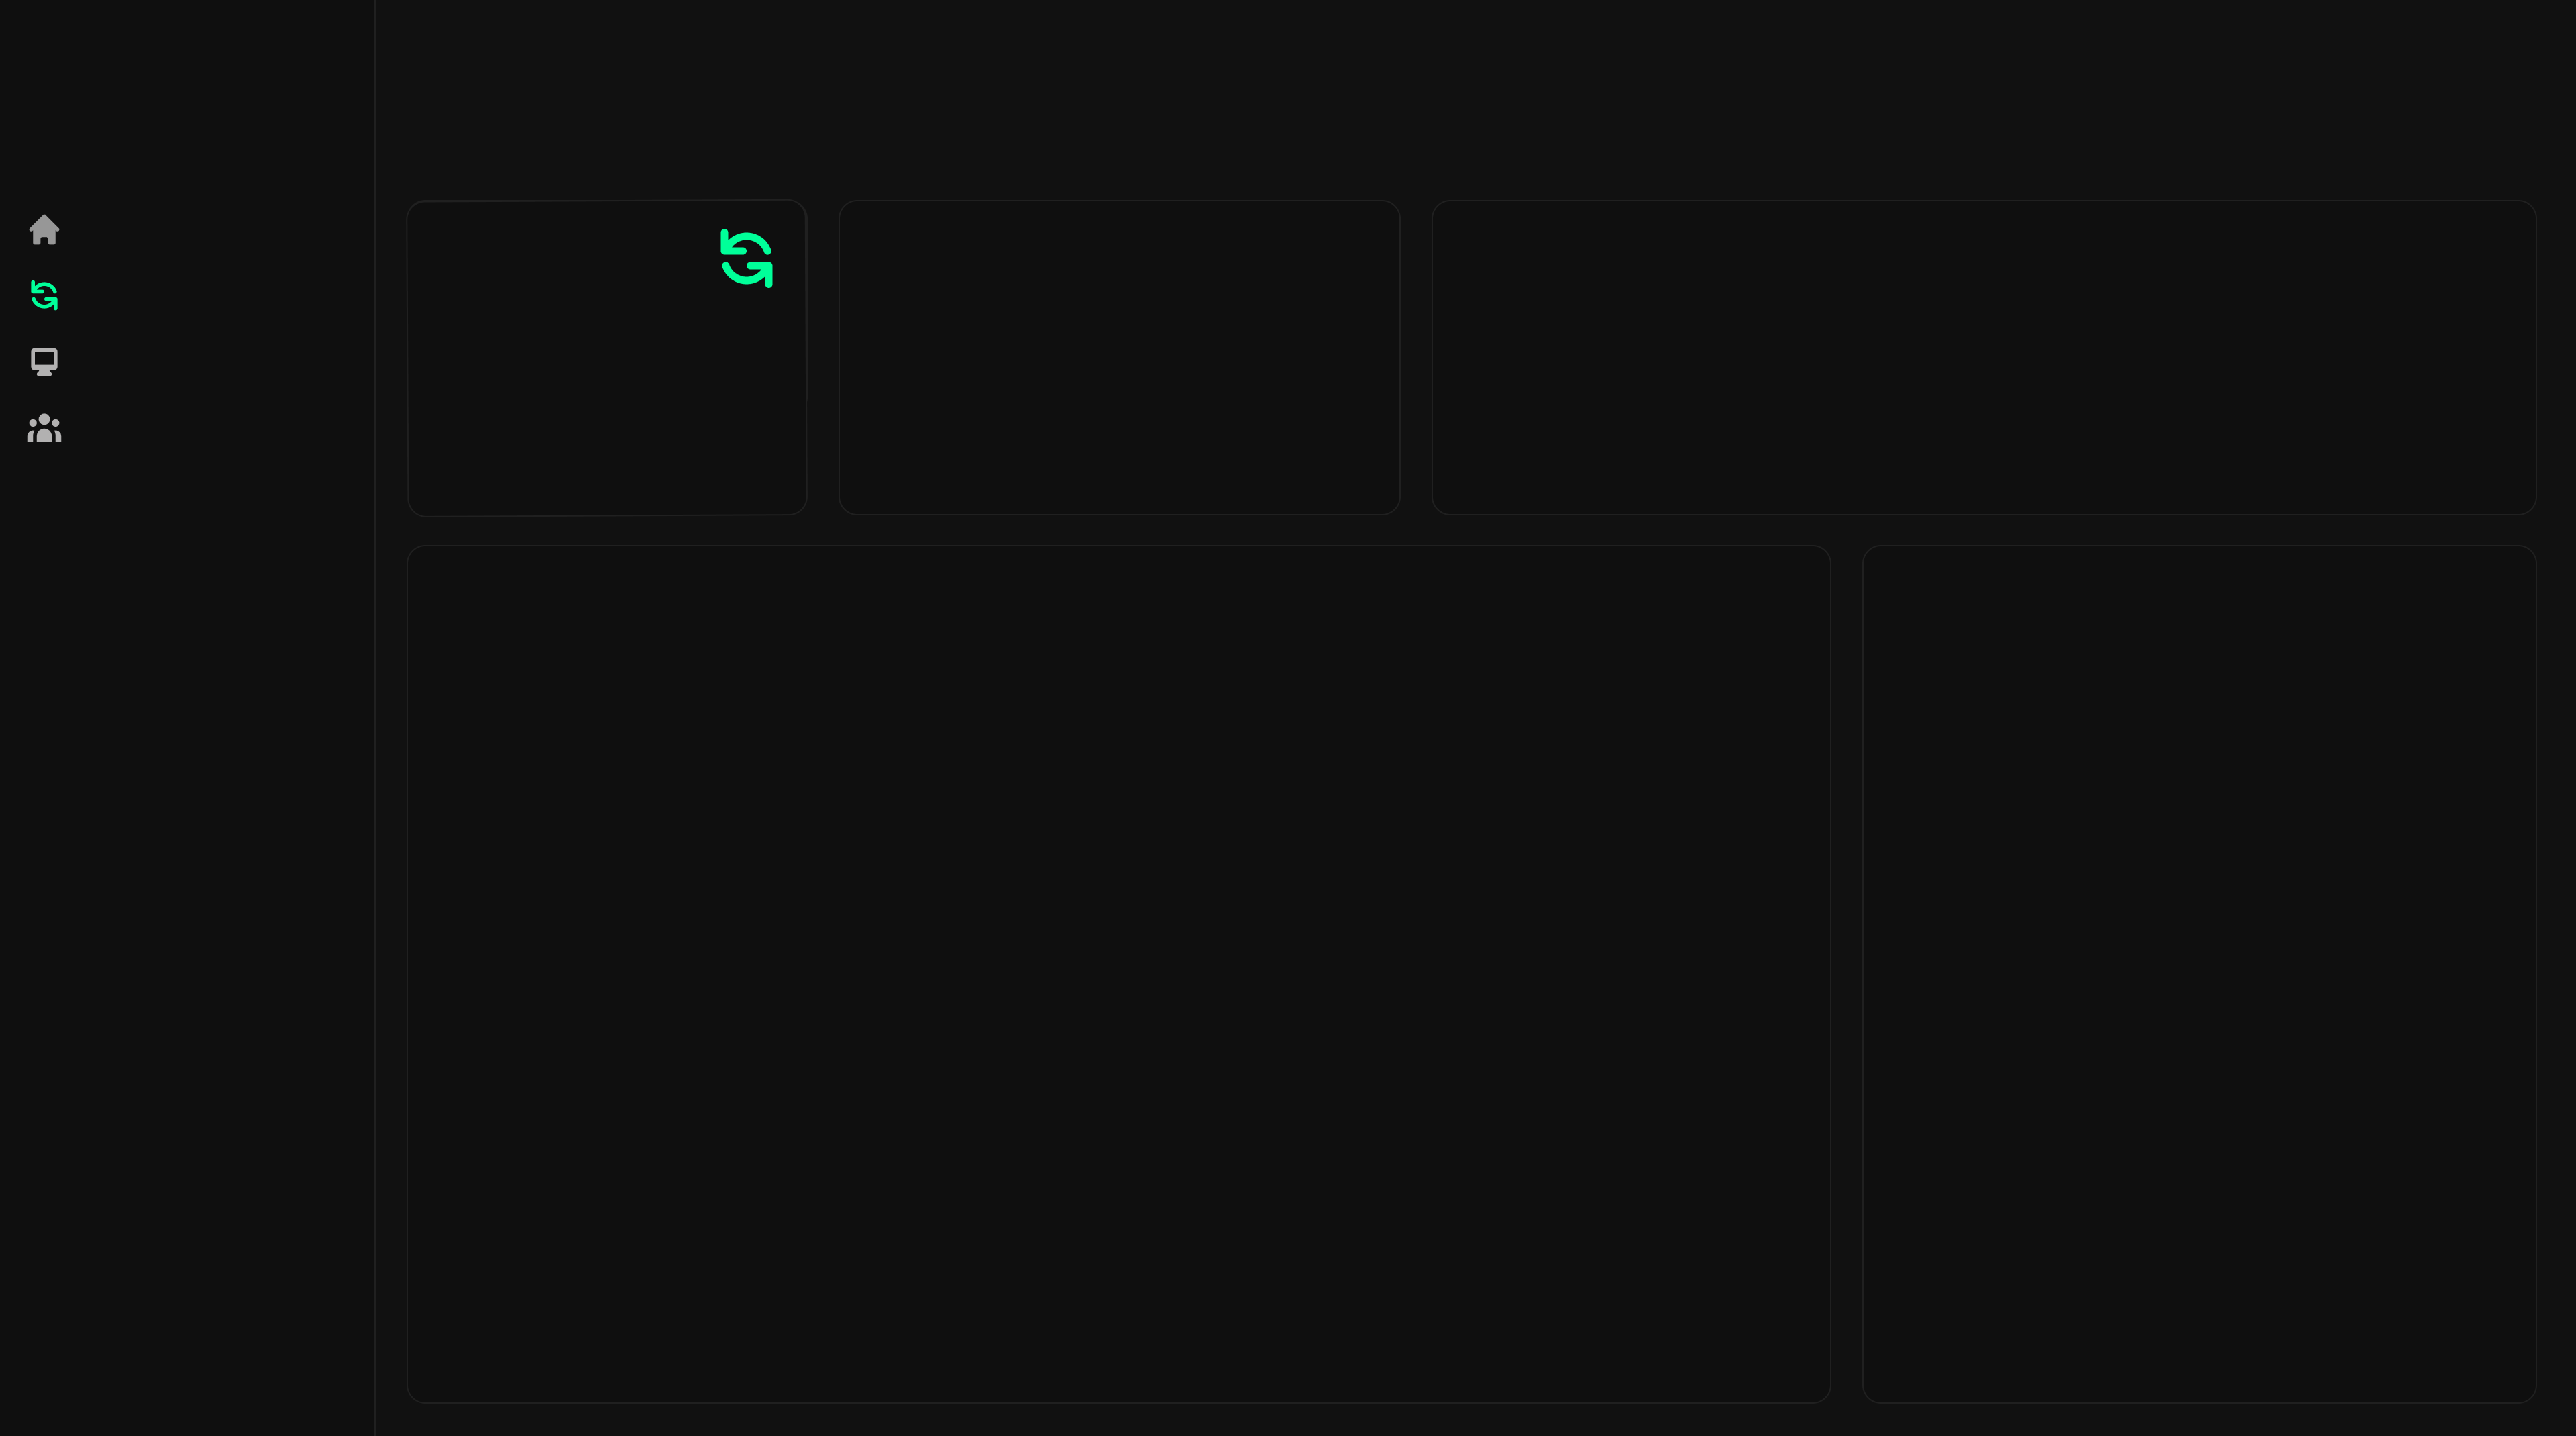

What the dashboard file says about the page in this screenshot:
{"tool":"powerbi","page":{"name":"Conversion","canvas":[1280,720],"ordinal":1},"visuals":[{"type":"lineChart","fields":{"Y":["_Calculations.Conversion Rate"],"Category":["Calendar.MonthNameShort"]},"box":[718.6,109.3,536,141.8],"z":0},{"type":"clusteredBarChart","title":"Top 10 Products by Conversion Rate","fields":{"Category":["DIM_products.ProductName"],"Y":["_Calculations.Conversion Rate"]},"box":[936.5,286.8,317.9,411.9],"z":1000},{"type":"pivotTable","fields":{"Values":["_Calculations.Conversion Rate"],"Rows":["DIM_products.ProductName"],"Columns":["Calendar.MonthNameShort"]},"box":[200.4,280.3,708.7,417.7],"z":2000},{"type":"funnel","title":"# of Customer Journies by Action","fields":{"Y":["_Calculations.Number of Customer Journeys"],"Category":["FACT_customer_journey.Action"]},"box":[421,109.3,272.2,141.8],"z":3000},{"type":"cardVisual","fields":{"Data":["_Calculations.Conversion Rate 2023"]},"box":[218.1,204.7,44.2,47.9],"z":4000},{"type":"cardVisual","fields":{"Data":["_Calculations.Conversion Rate 2024"]},"box":[277.7,204.7,47.9,47.9],"z":5000},{"type":"cardVisual","fields":{"Data":["_Calculations.Conversion Rate 2025"]},"box":[341,204.7,47.9,47.9],"z":6000},{"type":"textbox","box":[212.9,195.8,51.6,30.7],"z":7000},{"type":"textbox","box":[275.3,195.8,51.6,30.7],"z":8000},{"type":"textbox","box":[337.6,195.8,51.6,30.7],"z":9000},{"type":"shape","box":[257.7,198,24.6,50.4],"z":10000},{"type":"shape","box":[321,198,24.6,50.4],"z":11000},{"type":"cardVisual","fields":{"Data":["_Calculations.Conversion Rate"]},"box":[211.3,95.4,127,78.1],"z":12000},{"type":"cardVisual","fields":{"Data":["_Calculations.Diff Last Year Conversion"]},"box":[211.2,147.4,98.3,48.4],"z":13000},{"type":"advancedSlicerVisual","fields":{"Values":["DIM_products.ProductName"]},"box":[15.2,273.6,157.5,439],"z":14000},{"type":"textbox","box":[5.7,241.3,174.3,31.7],"z":15000},{"type":"pageNavigator","box":[5.6,102,174.2,131],"z":16000},{"type":"advancedSlicerVisual","fields":{"Values":["Calendar.Year"]},"box":[523.8,31.1,193.5,38.9],"z":18000},{"type":"advancedSlicerVisual","fields":{"Values":["Calendar.MonthNameShort"]},"box":[732.8,31.1,542.5,38.7],"z":19000},{"type":"shape","box":[694.7,36.7,60.8,28.3],"z":20000},{"type":"image","box":[7.8,7.1,60.7,62.8],"z":20001},{"type":"textbox","box":[68.1,9.5,112,57.8],"z":20002},{"type":"textbox","box":[198.4,26.4,299.5,47.6],"z":20003}]}

Visuals, with their boxes on the page's 1280x720 design canvas (x1, y1, x2, y2). These are canvas units, not pixel positions in the 2576x1436 screenshot, which may show the page scaled, cropped or inside an application window:
lineChart - _Calculations.Conversion Rate x Calendar.MonthNameShort: select_region(719, 109, 1255, 251)
"Top 10 Products by Conversion Rate" clusteredBarChart: select_region(936, 287, 1254, 699)
pivotTable - _Calculations.Conversion Rate x DIM_products.ProductName: select_region(200, 280, 909, 698)
"# of Customer Journies by Action" funnel: select_region(421, 109, 693, 251)
cardVisual - _Calculations.Conversion Rate 2023: select_region(218, 205, 262, 253)
cardVisual - _Calculations.Conversion Rate 2024: select_region(278, 205, 326, 253)
cardVisual - _Calculations.Conversion Rate 2025: select_region(341, 205, 389, 253)
textbox: select_region(213, 196, 264, 226)
textbox: select_region(275, 196, 327, 226)
textbox: select_region(338, 196, 389, 226)
shape: select_region(258, 198, 282, 248)
shape: select_region(321, 198, 346, 248)
cardVisual - _Calculations.Conversion Rate: select_region(211, 95, 338, 174)
cardVisual - _Calculations.Diff Last Year Conversion: select_region(211, 147, 310, 196)
advancedSlicerVisual - DIM_products.ProductName: select_region(15, 274, 173, 713)
textbox: select_region(6, 241, 180, 273)
pageNavigator: select_region(6, 102, 180, 233)
advancedSlicerVisual - Calendar.Year: select_region(524, 31, 717, 70)
advancedSlicerVisual - Calendar.MonthNameShort: select_region(733, 31, 1275, 70)
shape: select_region(695, 37, 756, 65)
image: select_region(8, 7, 68, 70)
textbox: select_region(68, 10, 180, 67)
textbox: select_region(198, 26, 498, 74)
